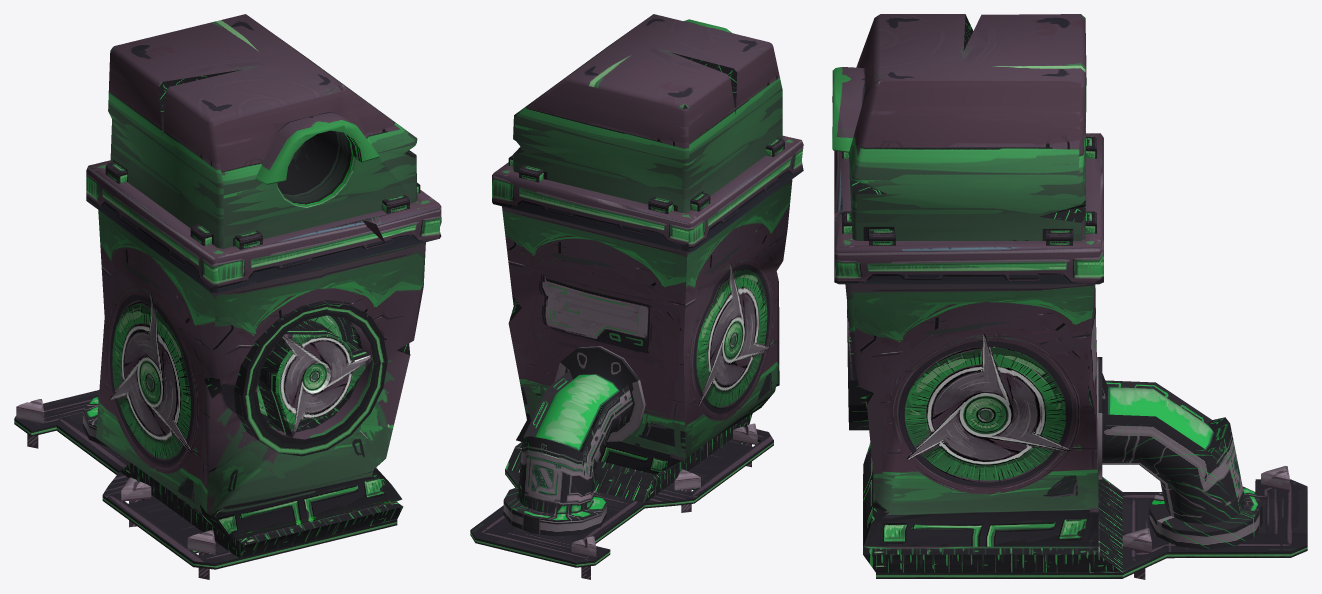
The picture shows the model from 3 angles, left to right: view 1: azimuth 30°, elevation 25°; view 2: azimuth 150°, elevation 25°; view 3: azimuth 270°, elevation 25°; orthographic projection. The views are drawn at different scales.
Parts seen in each view (by area): view 1: RECYCLE_BASE, RECYCLE_SPIN_COVER, RECYCLE_SPINNER, SCREW001, SCREW002, SCREW, RECYCLE_TUBE; view 2: RECYCLE_BASE, RECYCLE_TUBE, SCREW002, SCREW, SCREW001; view 3: RECYCLE_BASE, RECYCLE_TUBE, RECYCLE_SPIN_COVER, SCREW003.
Boxes of the visible parts, x1,y1,x2,y2 form: RECYCLE_BASE: (14, 14, 441, 569); RECYCLE_SPIN_COVER: (234, 300, 387, 456); RECYCLE_SPINNER: (258, 319, 371, 437); SCREW001: (187, 530, 215, 579); SCREW002: (16, 399, 44, 448); SCREW: (121, 477, 151, 527); RECYCLE_TUBE: (82, 396, 109, 447); RECYCLE_BASE: (470, 14, 803, 567); RECYCLE_TUBE: (503, 346, 645, 536); SCREW002: (571, 536, 596, 579); SCREW: (674, 469, 700, 512); SCREW001: (733, 423, 757, 467); RECYCLE_BASE: (832, 14, 1307, 578); RECYCLE_TUBE: (1096, 357, 1262, 549); RECYCLE_SPIN_COVER: (847, 302, 868, 430); SCREW003: (1122, 528, 1151, 579).
Bounding box in the file's own units: 0.5854 × 1.14 × 0.9954.
16 materials, 16 textured.
